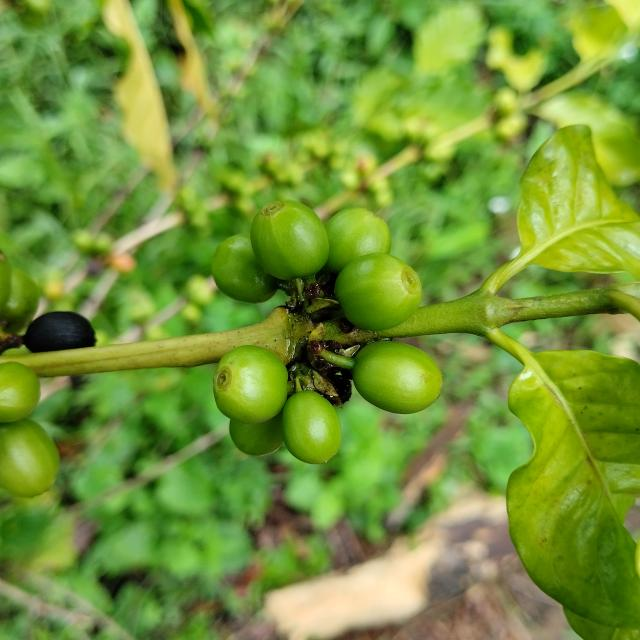green: (335, 253, 422, 331), (352, 341, 442, 414), (250, 200, 329, 280), (213, 345, 288, 424), (0, 418, 58, 498), (211, 234, 278, 303), (281, 390, 341, 465), (325, 208, 392, 271), (229, 413, 283, 456)
red: (23, 311, 95, 353)
